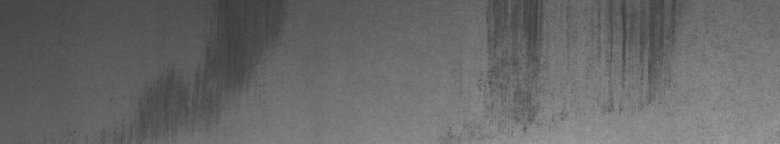ka: (484, 4, 675, 132)
